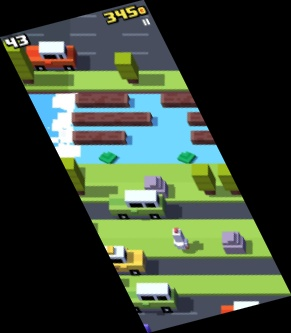car: (108, 191, 174, 221), (119, 282, 179, 314), (27, 40, 76, 71), (220, 301, 277, 323), (103, 246, 147, 272), (119, 317, 150, 333)
duck: (173, 227, 190, 252)
lilypad: (177, 150, 197, 163), (99, 151, 118, 163)
log: (72, 113, 153, 126), (74, 93, 131, 108), (73, 131, 127, 144), (159, 93, 210, 106), (191, 132, 239, 144), (187, 113, 234, 125)
rock: (221, 231, 247, 254), (143, 175, 169, 197)
tree: (1, 40, 35, 83), (53, 156, 85, 195), (214, 165, 243, 196), (113, 52, 139, 84), (192, 165, 216, 197)
water: (26, 93, 225, 164)
